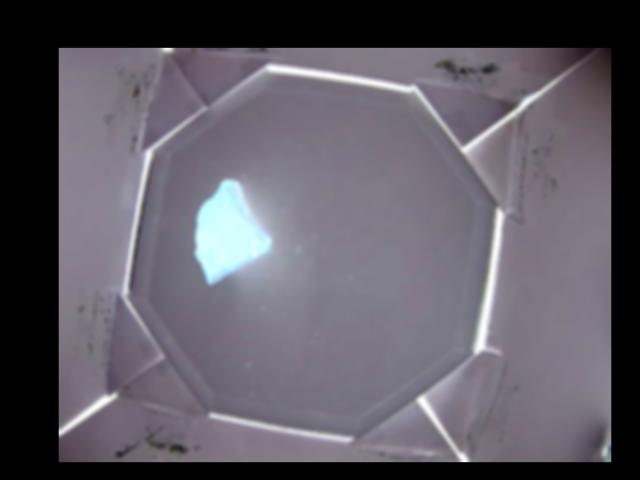Brisk: (194, 179, 272, 283)
